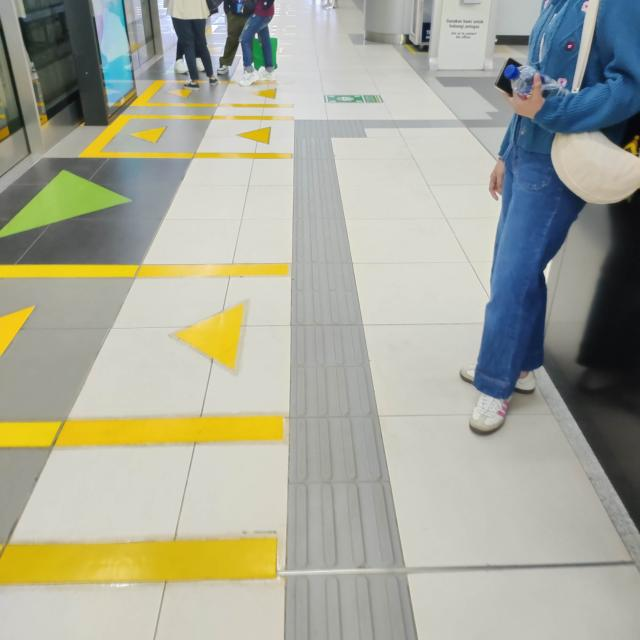kanan: (274, 104, 420, 150)
